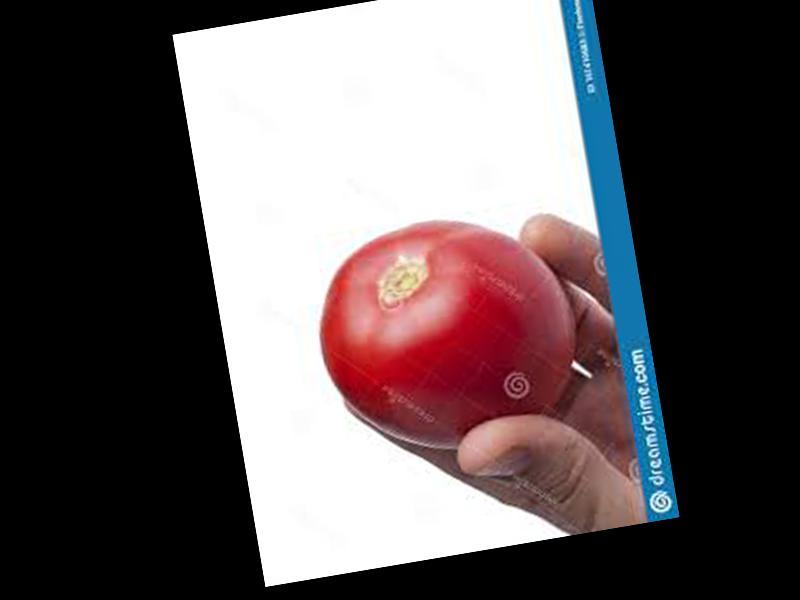Tomato: (304, 201, 590, 468)
